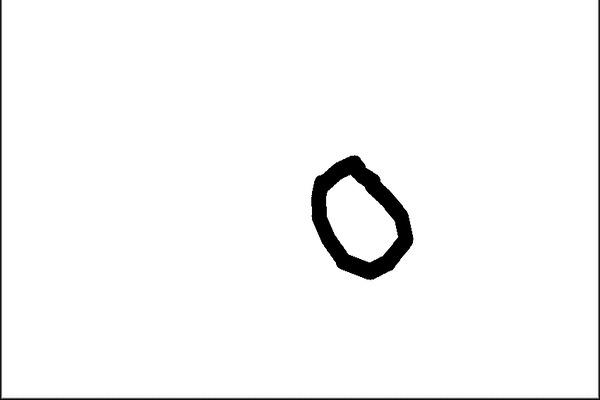O: (301, 150, 423, 286)
